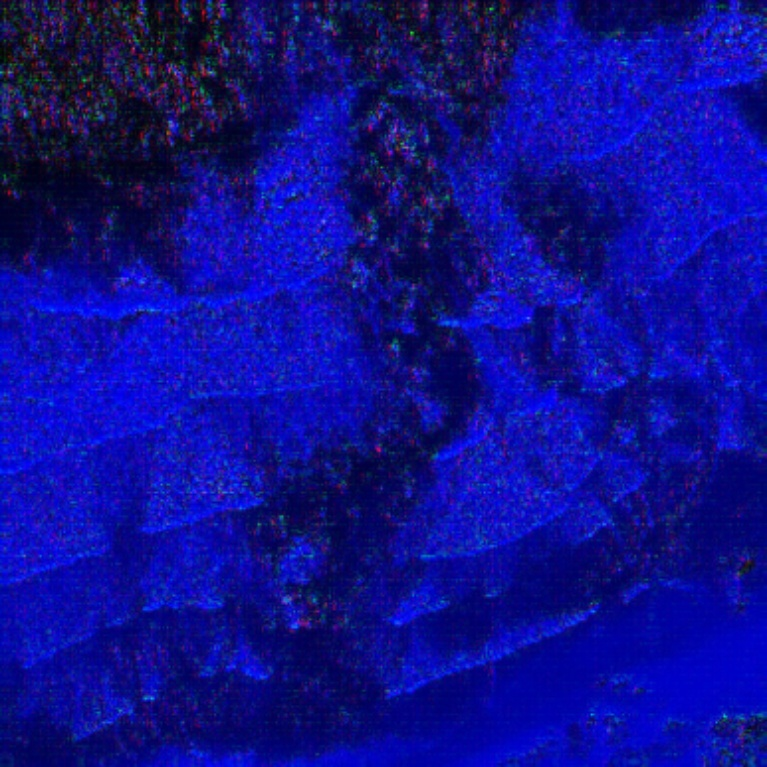rip_current: (211, 48, 564, 745)
